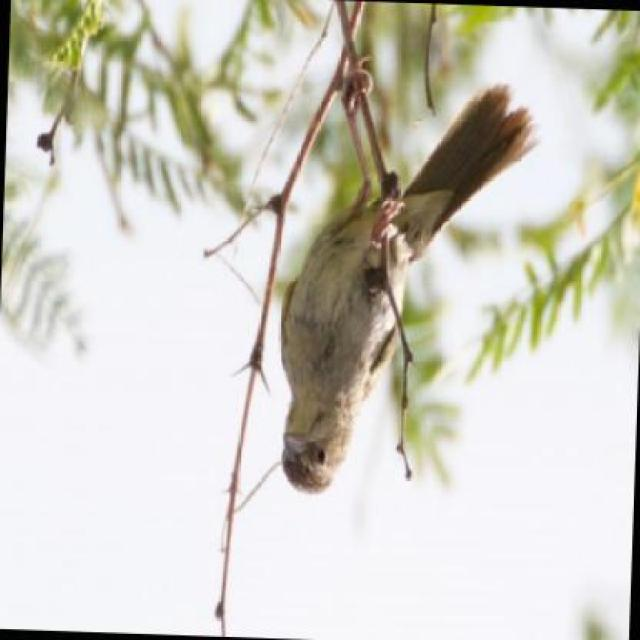sparrow: (278, 73, 536, 502)
